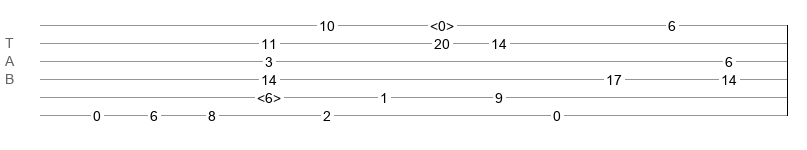0: (93, 108, 101, 118), (553, 108, 561, 118)
1: (380, 90, 388, 100)
10: (319, 18, 335, 28)
11: (261, 36, 277, 46)
14: (261, 72, 277, 82), (491, 36, 507, 46), (721, 72, 737, 82)
17: (606, 72, 622, 82)
2: (323, 108, 331, 118)
20: (434, 36, 450, 46)
3: (265, 54, 273, 64)
6: (150, 108, 158, 118), (668, 18, 676, 28), (725, 54, 733, 64)
8: (208, 108, 216, 118)
9: (495, 90, 503, 100)
harmonic: (257, 90, 281, 100), (430, 18, 454, 28)
